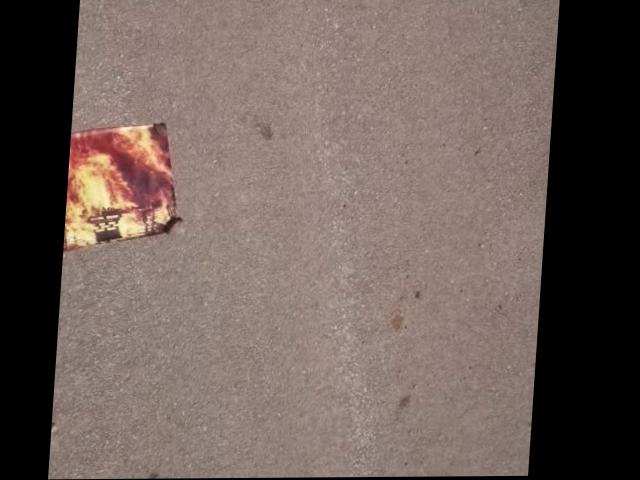fire-poster: (68, 119, 193, 254)
